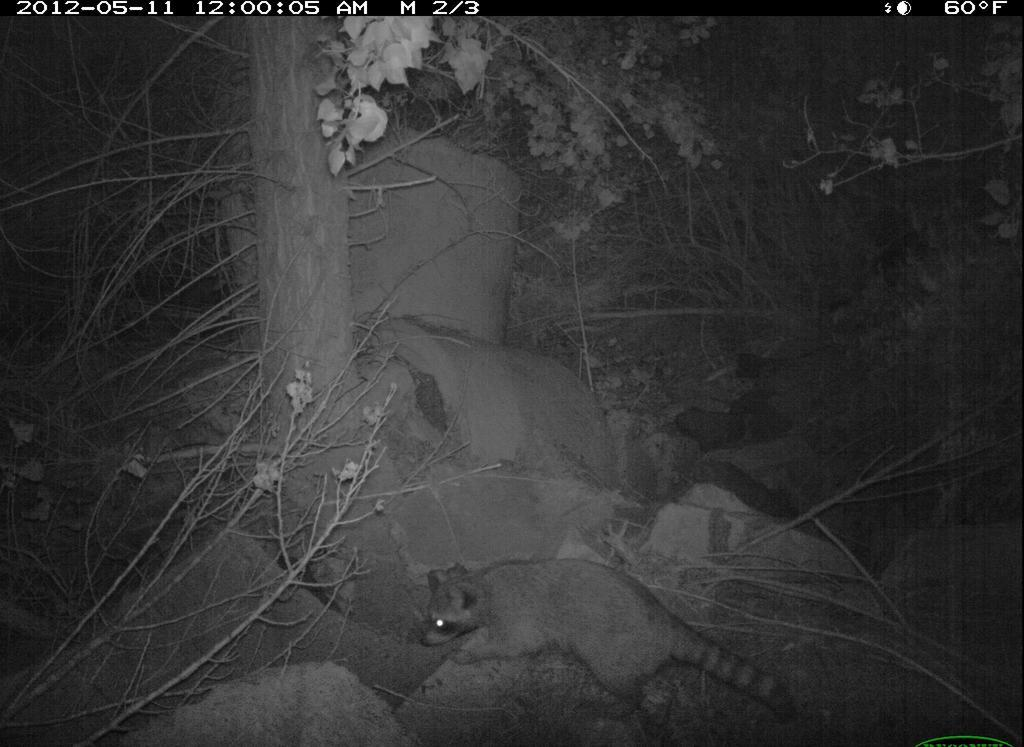raccoon: (406, 546, 806, 737)
